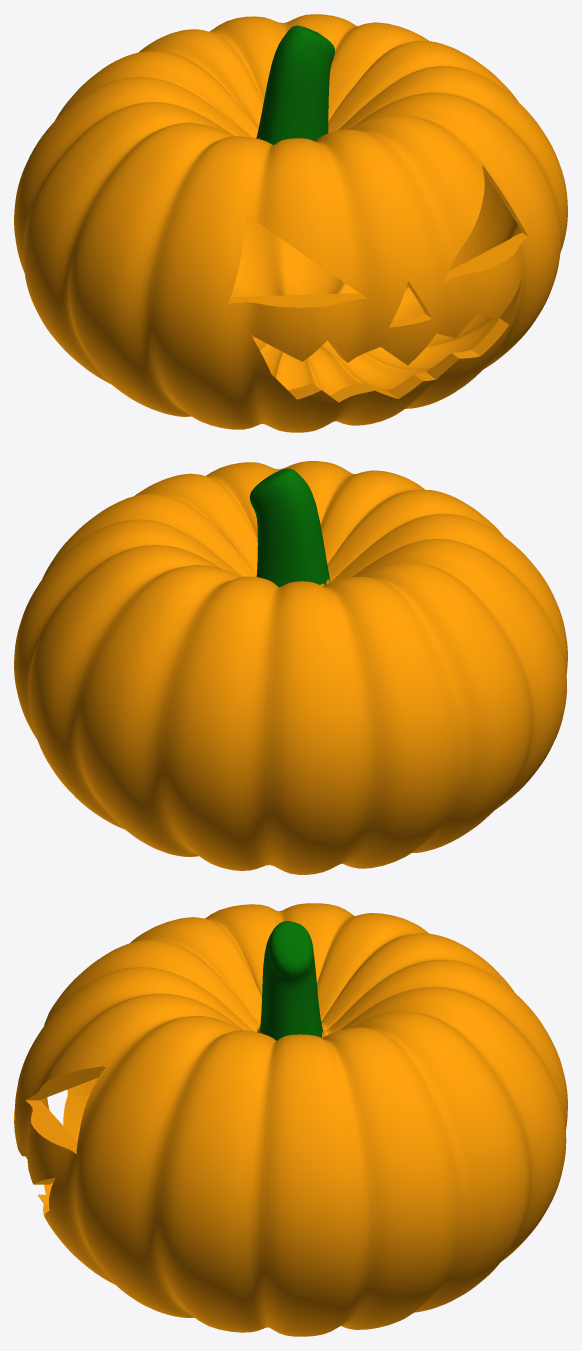
The model's file is PumpkinFace.fbx.
The picture shows the model from 3 angles, top to bottom: view 1: azimuth 30°, elevation 25°; view 2: azimuth 150°, elevation 25°; view 3: azimuth 270°, elevation 25°; orthographic projection. The views are drawn at different scales.
Visible parts, largest first — view 1: polySurface11; view 2: polySurface11; view 3: polySurface11.
Boxes of the visible parts, x1,y1,x2,y2 form: polySurface11: [14, 14, 567, 432]; polySurface11: [14, 461, 567, 874]; polySurface11: [14, 903, 567, 1336].
Bounding box in the file's own units: 5.86 × 3.93 × 5.63.
